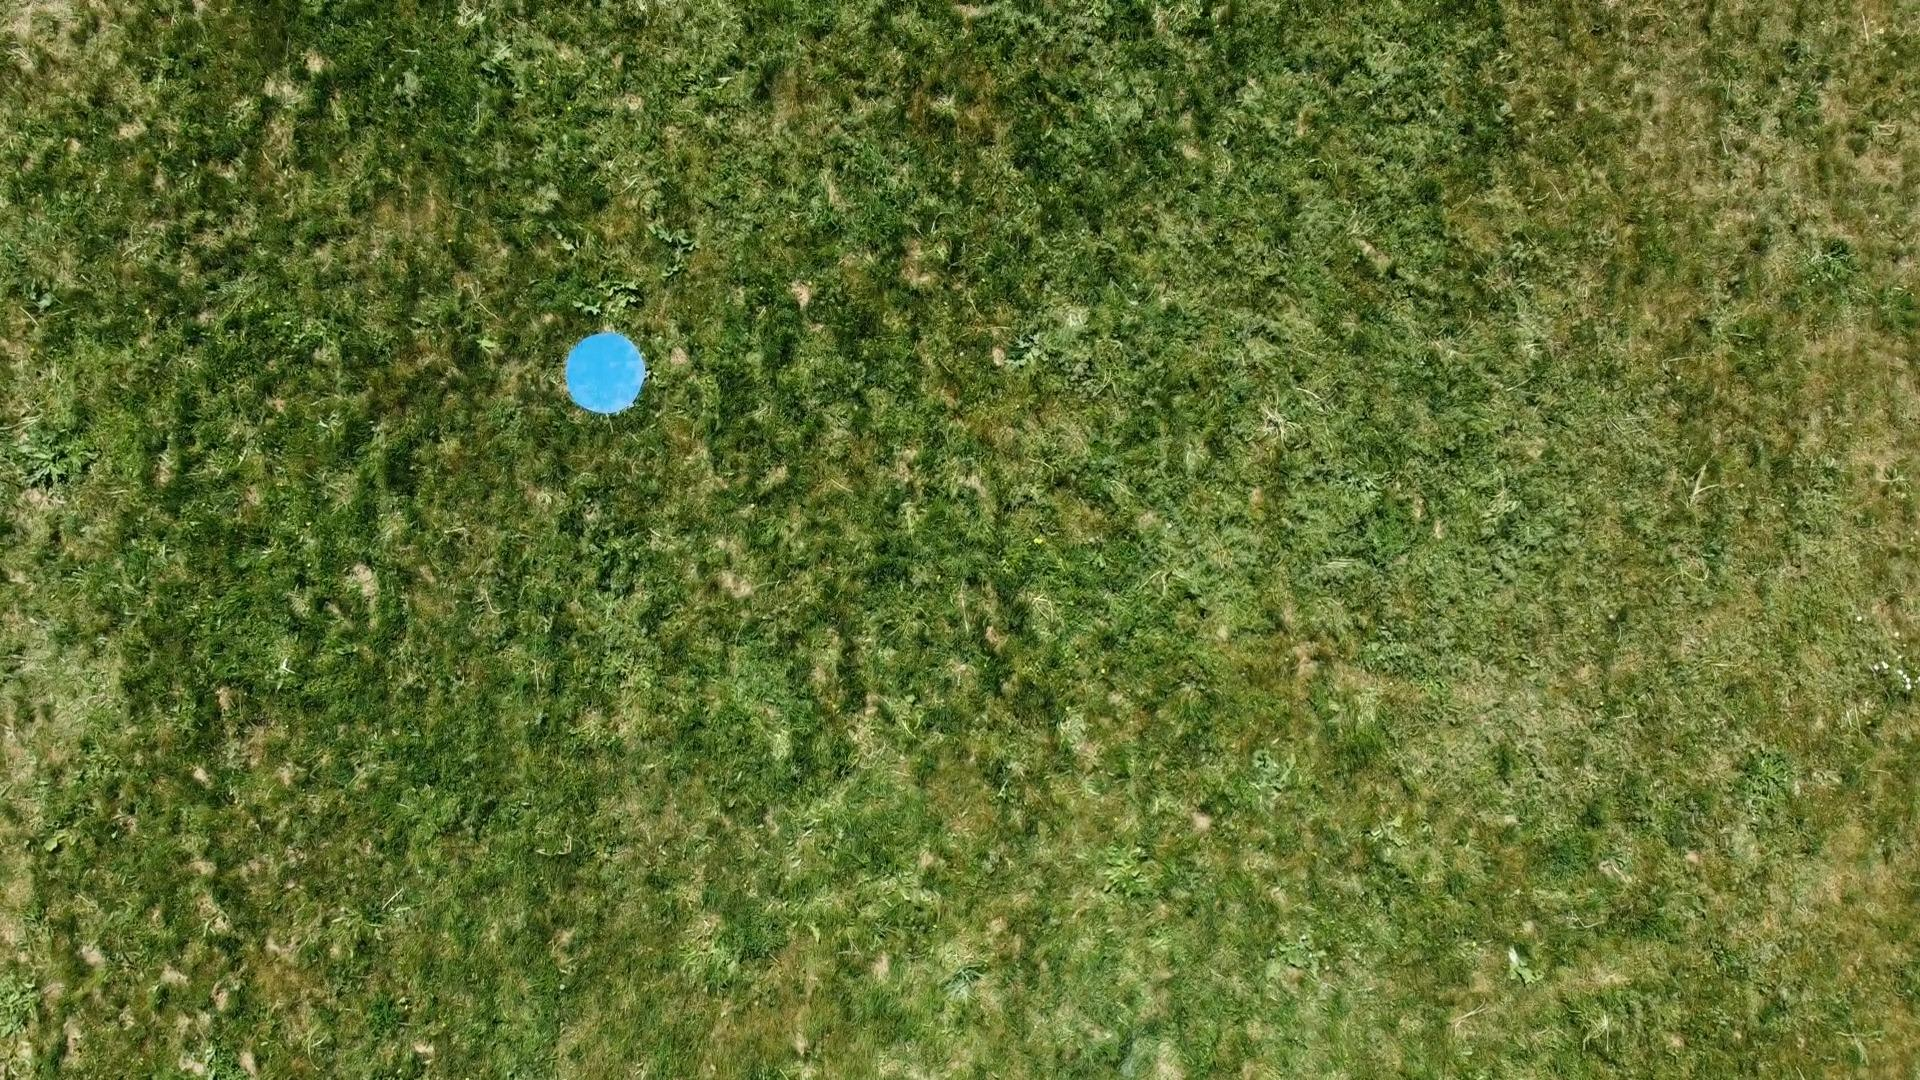Blue: (562, 330, 653, 415)
